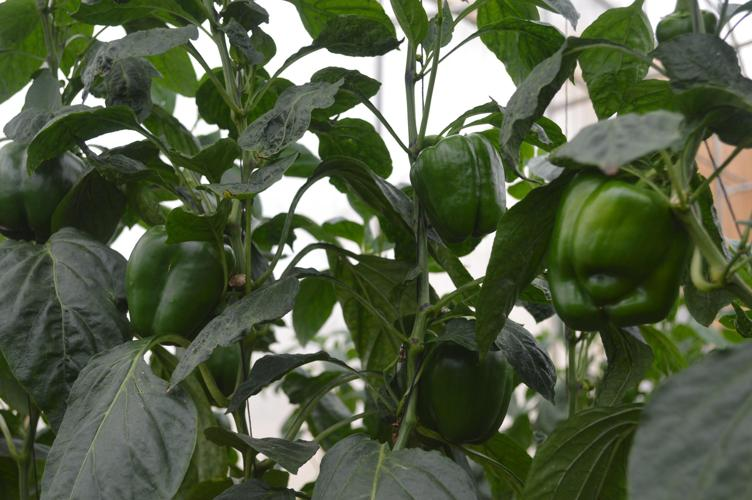BellPepper: (545, 174, 692, 329), (116, 226, 234, 335), (405, 343, 519, 443), (407, 135, 507, 241), (2, 144, 85, 236)
